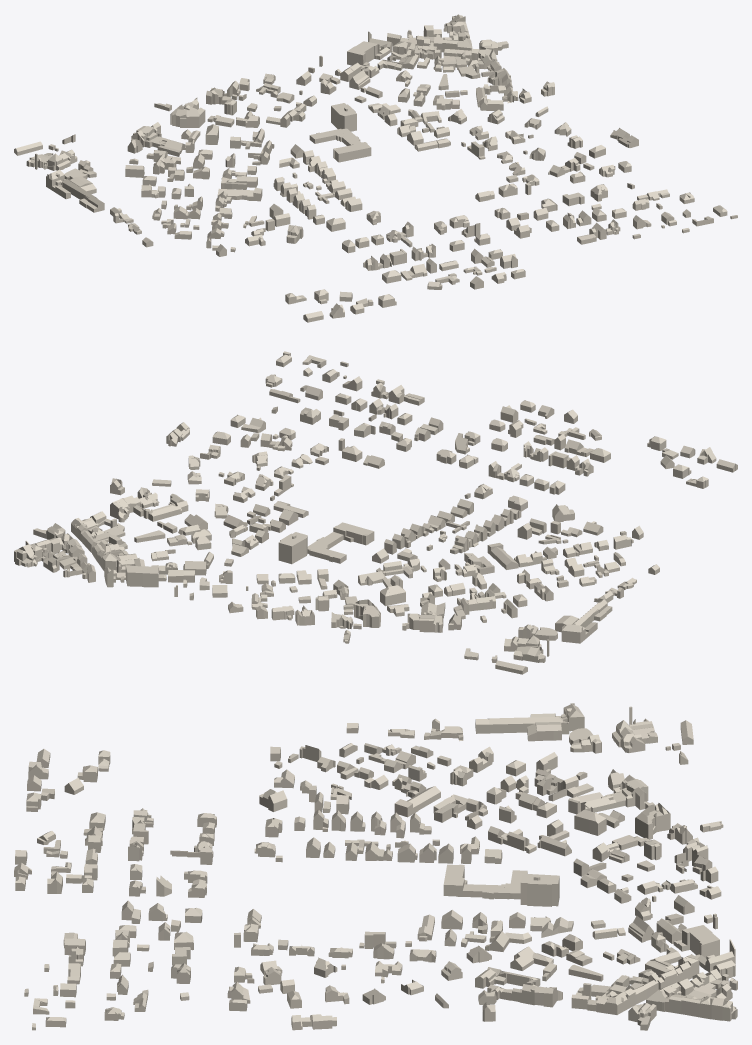
3 renders of one model, top to bottom at view 1: azimuth 30°, elevation 25°; view 2: azimuth 150°, elevation 25°; view 3: azimuth 270°, elevation 25°, orthographic. The views are drawn at different scales.
Size of the model in its own units: 460 by 18.96 by 449.
